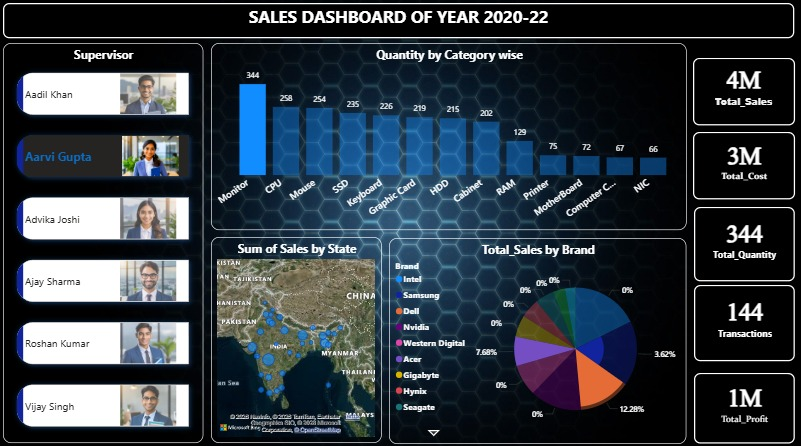

The dashboard page shown, as its layout file describes it:
{"tool":"powerbi","page":{"name":"Page 1","canvas":[1280,720],"ordinal":0},"visuals":[{"type":"textbox","box":[10.3,10.3,1255.9,55.9],"z":0},{"type":"cardVisual","fields":{"Data":["Sales_Data.Total_Profit"]},"box":[1105.9,596.2,159.8,112.3],"z":2000},{"type":"cardVisual","fields":{"Data":["CountNonNull(Sales_Data.Order_Number)"]},"box":[1105.9,457.4,160.3,120.6],"z":3000},{"type":"cardVisual","fields":{"Data":["Sum(Sales_Data.Quantity)"]},"box":[1105.9,332.6,159.8,118.1],"z":4000},{"type":"cardVisual","fields":{"Data":["Sum(Sales_Data.Total_Cost)"]},"box":[1104.4,214.7,161.8,107.4],"z":5000},{"type":"cardVisual","fields":{"Data":["Sum(Sales_Data.Total_Sales)"]},"box":[1104.4,97.1,161.8,107.4],"z":6000},{"type":"clusteredColumnChart","title":"Quantity by Category wise","fields":{"Y":["Sum(Sales_Data.Quantity)"],"Category":["Sales_Data.Category"]},"box":[339.8,73.4,754.6,296.6],"z":7000},{"type":"pieChart","fields":{"Y":["Sum(Sales_Data.Total_Sales)"],"Category":["Sales_Data.Brand"]},"box":[622.1,383,472.3,326.9],"z":8000},{"type":"map","fields":{"Category":["State_list.State"],"Size":["Sum(Sales_Data.Sales)"]},"box":[339.8,381.6,270.7,326.9],"z":9000},{"type":"advancedSlicerVisual","fields":{"Values":["Supervisor.Supervisor"]},"box":[10.3,73.5,317.6,635.3],"z":10000}]}

Visuals, with their boxes in screenshot pixels (x1, y1, x2, y2), scaled from the page's 1280x720 canvas onto the 801x446 screenshot:
textbox: bbox(6, 6, 792, 41)
cardVisual - Sales_Data.Total_Profit: bbox(692, 369, 792, 439)
cardVisual - CountNonNull(Sales_Data.Order_Number): bbox(692, 283, 792, 358)
cardVisual - Sum(Sales_Data.Quantity): bbox(692, 206, 792, 279)
cardVisual - Sum(Sales_Data.Total_Cost): bbox(691, 133, 792, 200)
cardVisual - Sum(Sales_Data.Total_Sales): bbox(691, 60, 792, 127)
"Quantity by Category wise" clusteredColumnChart: bbox(213, 45, 685, 229)
pieChart - Sum(Sales_Data.Total_Sales) x Sales_Data.Brand: bbox(389, 237, 685, 440)
map - State_list.State x Sum(Sales_Data.Sales): bbox(213, 236, 382, 439)
advancedSlicerVisual - Supervisor.Supervisor: bbox(6, 46, 205, 439)
